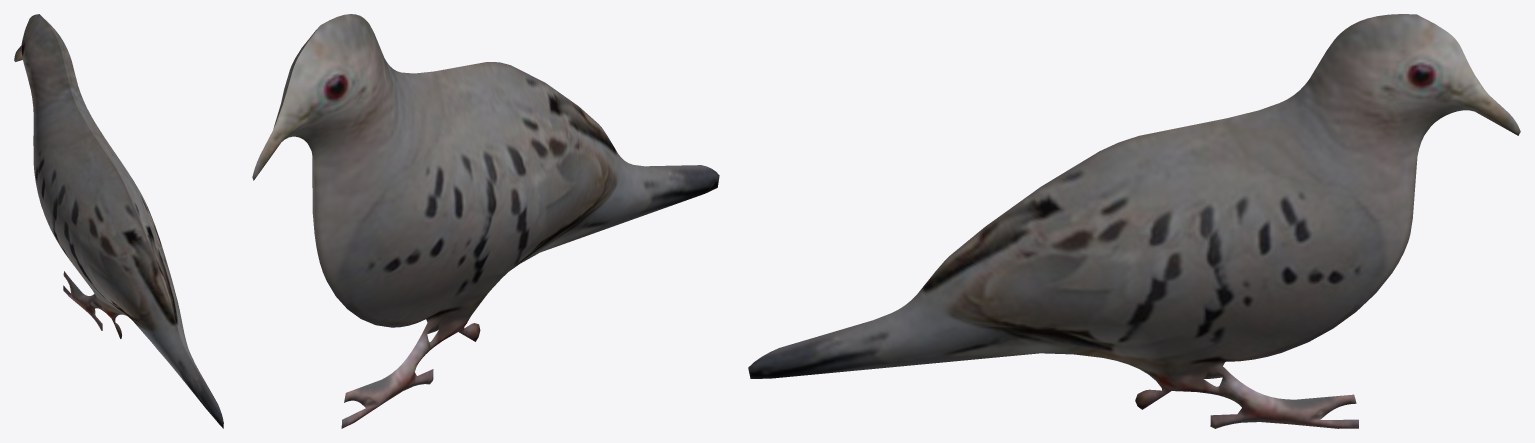
The model's file is ecuadorian_ground-dove-1-removebg-preview.gltf.
3 views of the same model, side by side, from view 1: azimuth 30°, elevation 25°; view 2: azimuth 150°, elevation 25°; view 3: azimuth 270°, elevation 25° (orthographic). The views are drawn at different scales.
Visible parts, largest first — view 1: node1; view 2: node1; view 3: node1.
Part boxes in pixels (<box>): node1: <box>14,14,223,428</box>; node1: <box>252,14,719,428</box>; node1: <box>748,14,1520,428</box>.
Size of the model in its own units: 0.2189 by 0.7112 by 1.2.
Materials: 1 (1 with a texture image).
